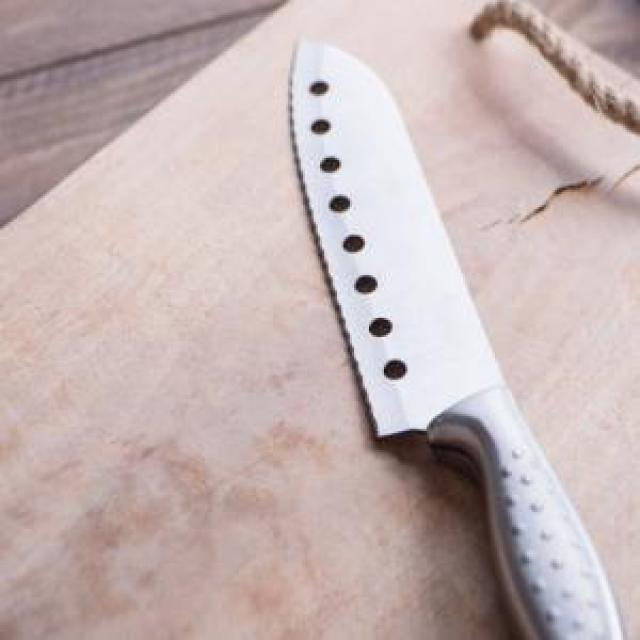knife: (284, 34, 628, 639)
